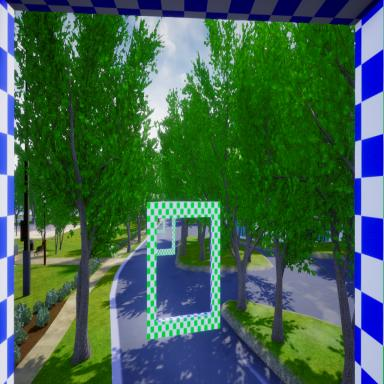gate: (146, 200, 221, 342)
